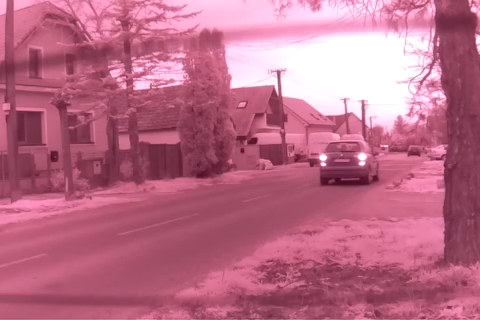car: (318, 140, 381, 187), (406, 144, 424, 158)
